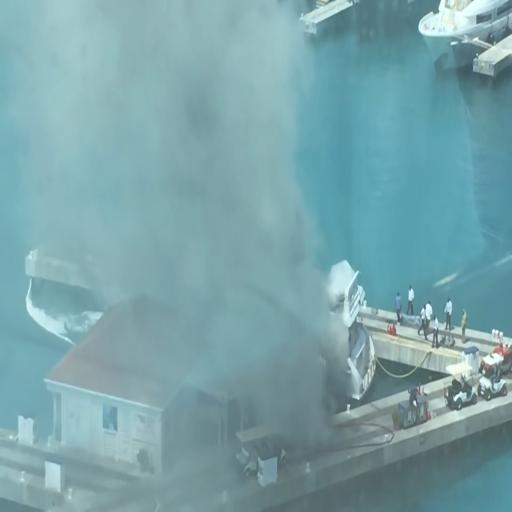smoke: (44, 0, 270, 146), (140, 157, 229, 329), (279, 341, 334, 425)
